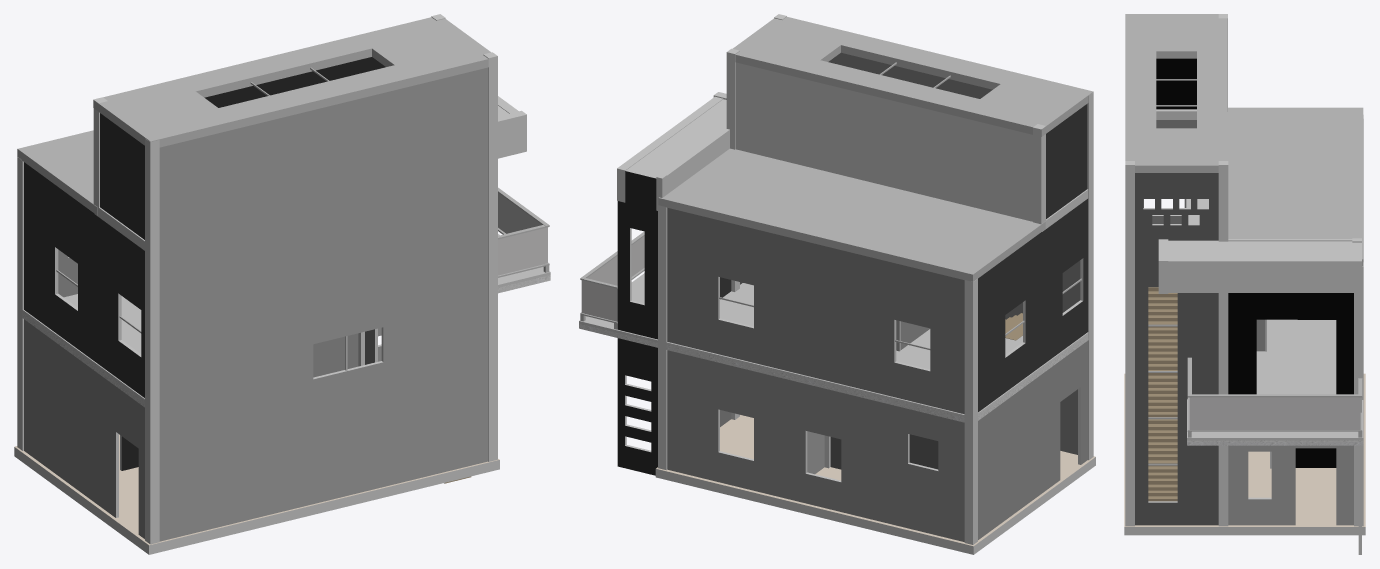
File: Casa C1-05.fbx
The picture shows the model from 3 angles, left to right: view 1: azimuth 30°, elevation 25°; view 2: azimuth 150°, elevation 25°; view 3: azimuth 270°, elevation 25°; orthographic projection. The views are drawn at different scales.
Visible parts, largest first — view 1: Cubo.002; view 2: Cubo.002; view 3: Cubo.002.
Boxes of the visible parts, x1,y1,x2,y2 form: Cubo.002: (14,14,550,554); Cubo.002: (579,14,1095,554); Cubo.002: (1124,14,1365,554).
Bounding box in the file's own units: 2215 × 2018 × 1185.
